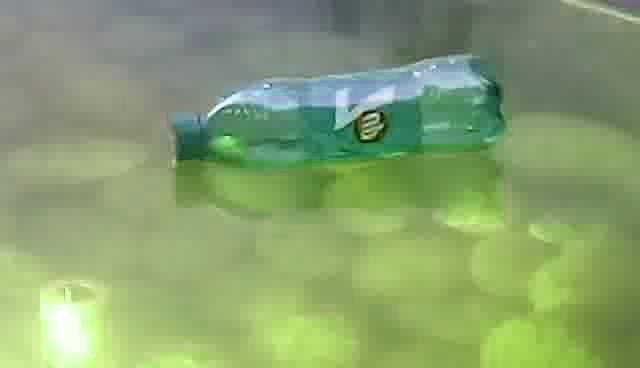Plastic: (168, 45, 511, 175)
